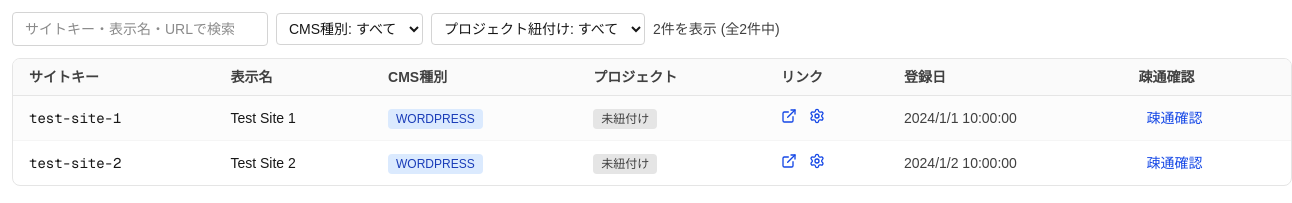
Test: SiteListTable › 自動構築・環境の表示 › 絞り込みに一致するサイトが無いとき「条件に一致するサイトはありません」を表示する
Type "該当なし" into the field with placeholder "サイトキー・表示名・URLで検索" at (140, 29), box 12,12 -> 268,46
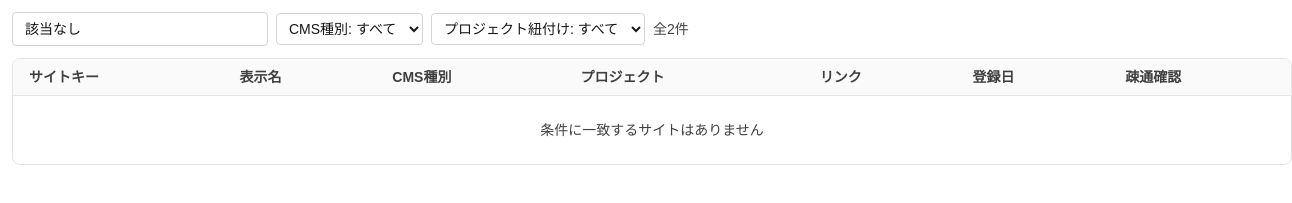
Expected: the text "条件に一致するサイトはありません" is shown, 13,96 -> 1291,164
